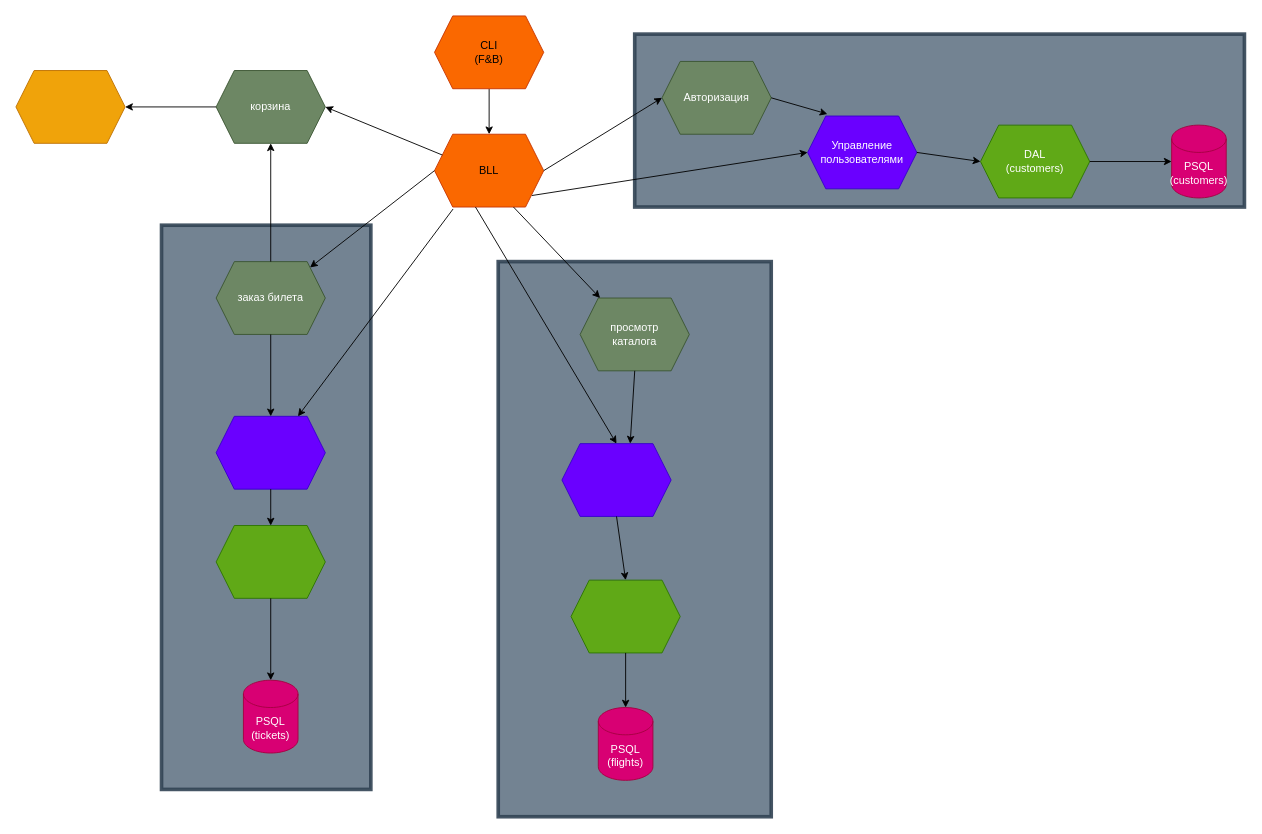
The diagram is 1262 pixels wide and 834 high, and some of its shapes have lost their labels. Here are the shapes that lost their labels. From the top down, the box of each, then its label:
(15, 70, 125, 143): оплата
(215, 415, 325, 489): управление билетами
(561, 443, 671, 516): управление рейсами
(215, 525, 325, 598): DAL (tickets )
(570, 579, 680, 653): DAL (flights )
